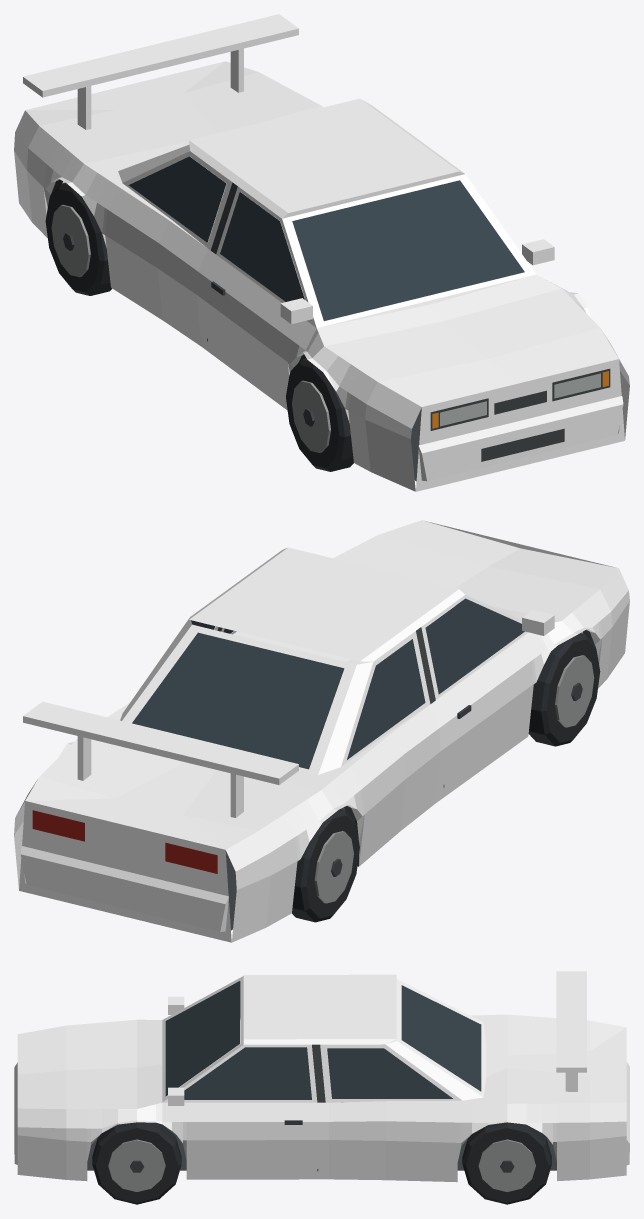
The model's file is hozuki_asagiri_corrida.glb.
3 views of the same model, one above another, from view 1: azimuth 30°, elevation 25°; view 2: azimuth 150°, elevation 25°; view 3: azimuth 270°, elevation 25° (orthographic). The views are drawn at different scales.
Visible parts, largest first — view 1: hozuki_asagiri_corrida; view 2: hozuki_asagiri_corrida; view 3: hozuki_asagiri_corrida.
Boxes of the visible parts, left/top/right/bottom form: hozuki_asagiri_corrida: left=14, top=14, right=629, bottom=491; hozuki_asagiri_corrida: left=14, top=520, right=629, bottom=942; hozuki_asagiri_corrida: left=14, top=971, right=629, bottom=1204.
Size of the model in its own units: 1.74 by 1.19 by 4.44.
8 materials, 1 textured.
